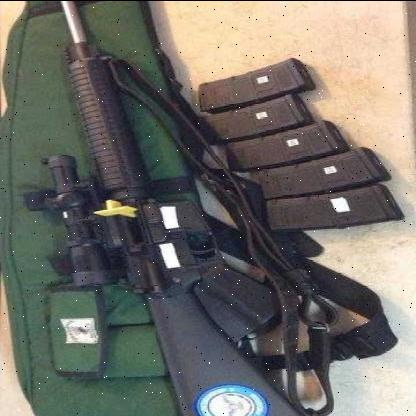rifle: (0, 1, 327, 416)
